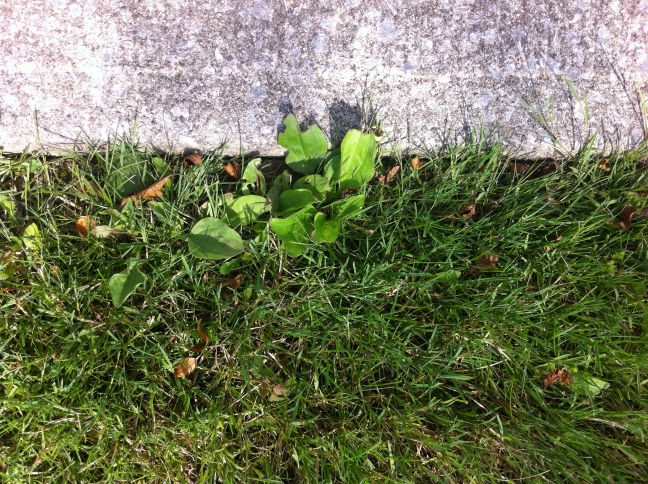weed1: (173, 106, 388, 270)
